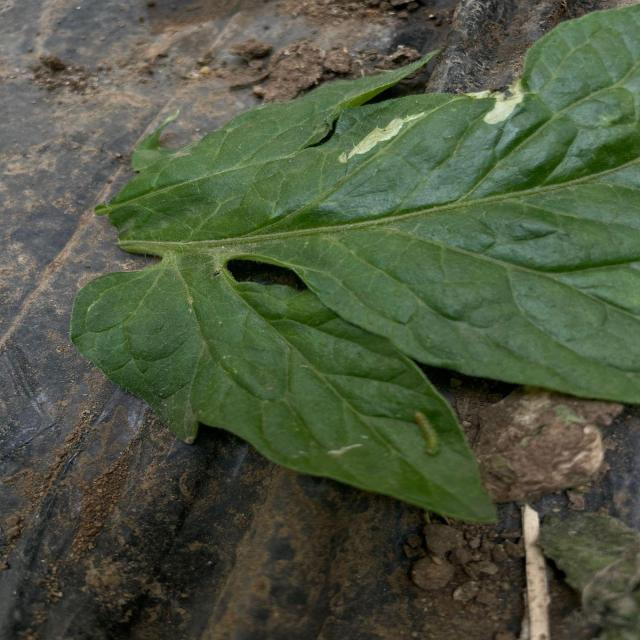Tuta absoluta: (334, 105, 424, 166), (481, 74, 529, 132)
